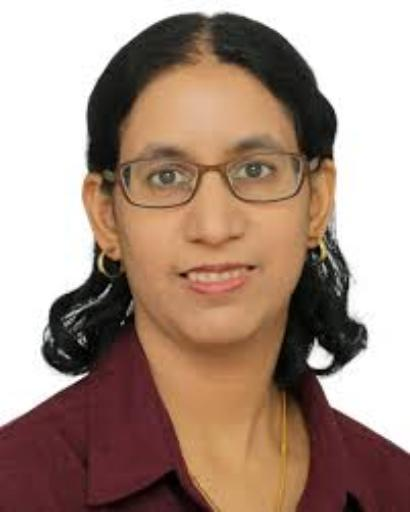left_eye: (235, 163, 280, 185)
left_lip_corner: (248, 262, 263, 278)
right_eye: (146, 169, 189, 193)
right_lip_corner: (174, 269, 189, 288)
